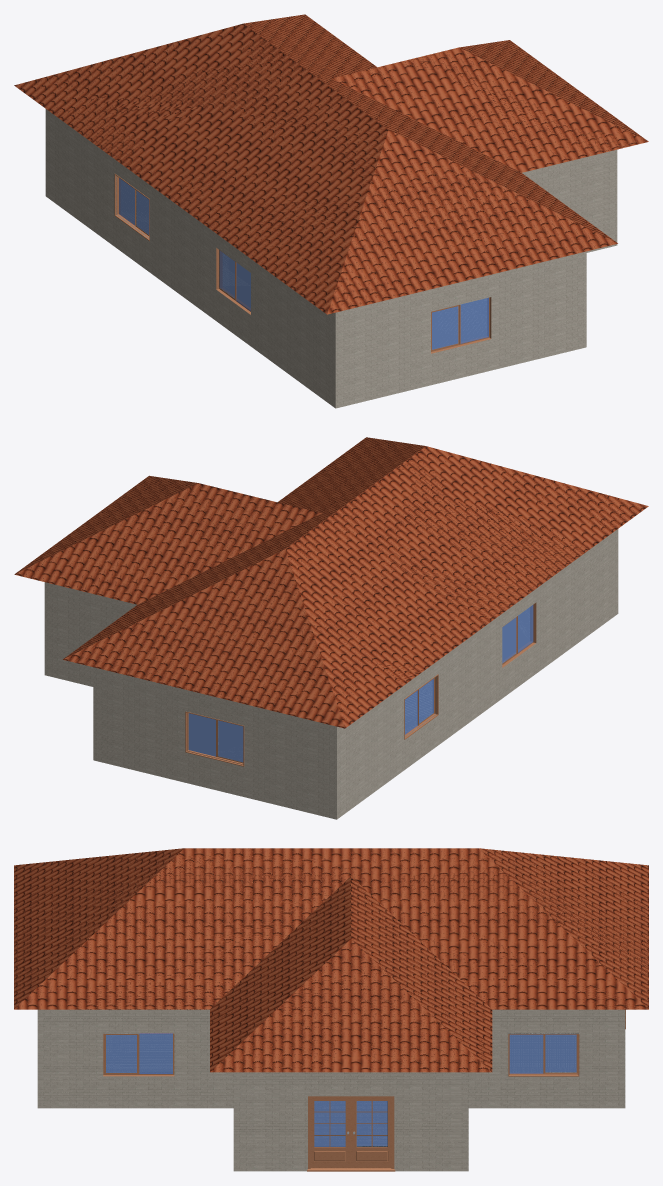
The model's file is telhado35.dae.
The picture shows the model from 3 angles, top to bottom: view 1: azimuth 30°, elevation 25°; view 2: azimuth 150°, elevation 25°; view 3: azimuth 270°, elevation 25°; orthographic projection. The views are drawn at different scales.
Parts seen in each view (by area): view 1: SketchUp (×8); view 2: SketchUp (×7); view 3: SketchUp (×12).
Part boxes in pixels (left/top/right/bottom): SketchUp (×8): left=14, top=14, right=648, bottom=408; SketchUp (×7): left=14, top=437, right=648, bottom=819; SketchUp (×12): left=14, top=848, right=648, bottom=1171.
Size of the model in its own units: 492 by 638 by 219.
18 materials, 6 textured.
